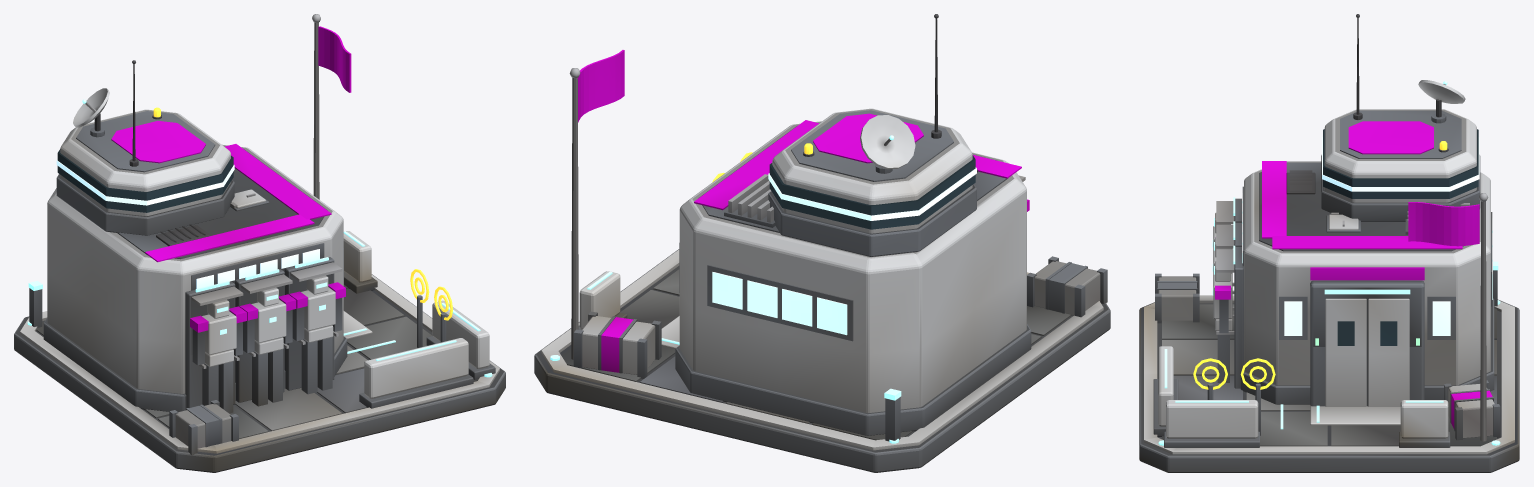
File: barracks_future.glb
3 views of the same model, side by side, from view 1: azimuth 30°, elevation 25°; view 2: azimuth 150°, elevation 25°; view 3: azimuth 270°, elevation 25° (orthographic). The views are drawn at different scales.
Parts seen in each view (by area): view 1: Body; view 2: Body; view 3: Body.
Boxes of the visible parts, x1,y1,x2,y2 form: Body: (14, 14, 505, 472); Body: (534, 14, 1110, 472); Body: (1139, 14, 1519, 472).
Size of the model in its own units: 4 by 3.77 by 4.
Materials: 1 (1 with a texture image).
